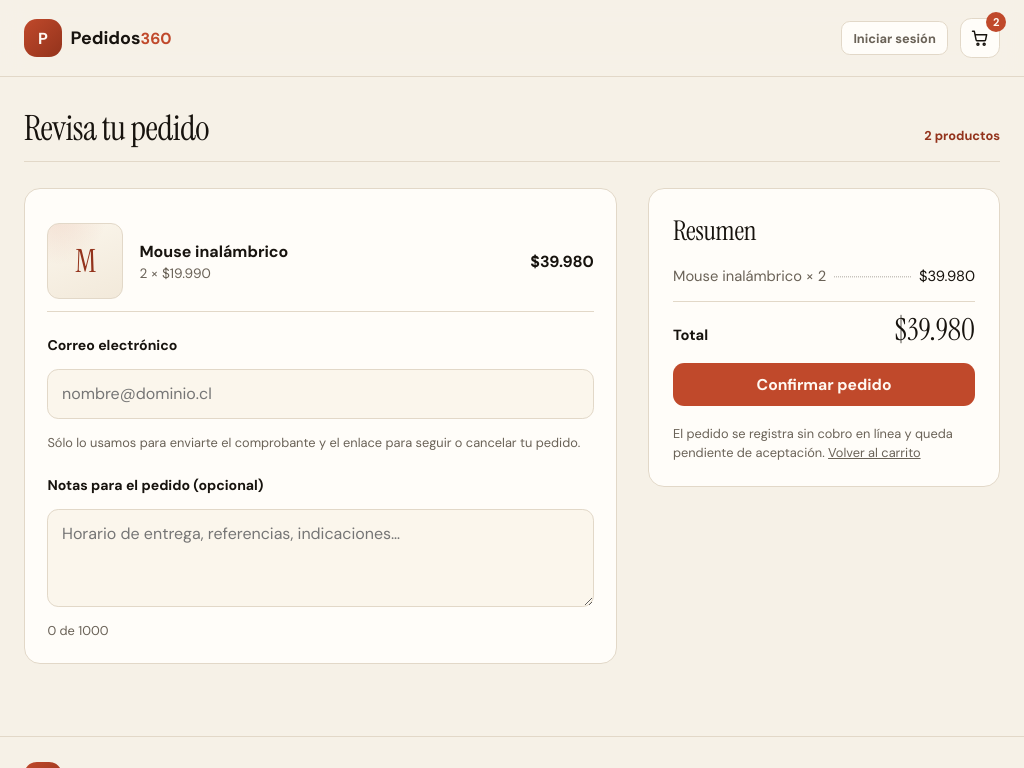
CheckoutPage › rechaza un correo sin formato válido
The width and height of the screenshot is (1024, 768).
In the field labelled "Correo electrónico": coordinates (321, 394) [47,369,594,419], type "lucia@duocuc"
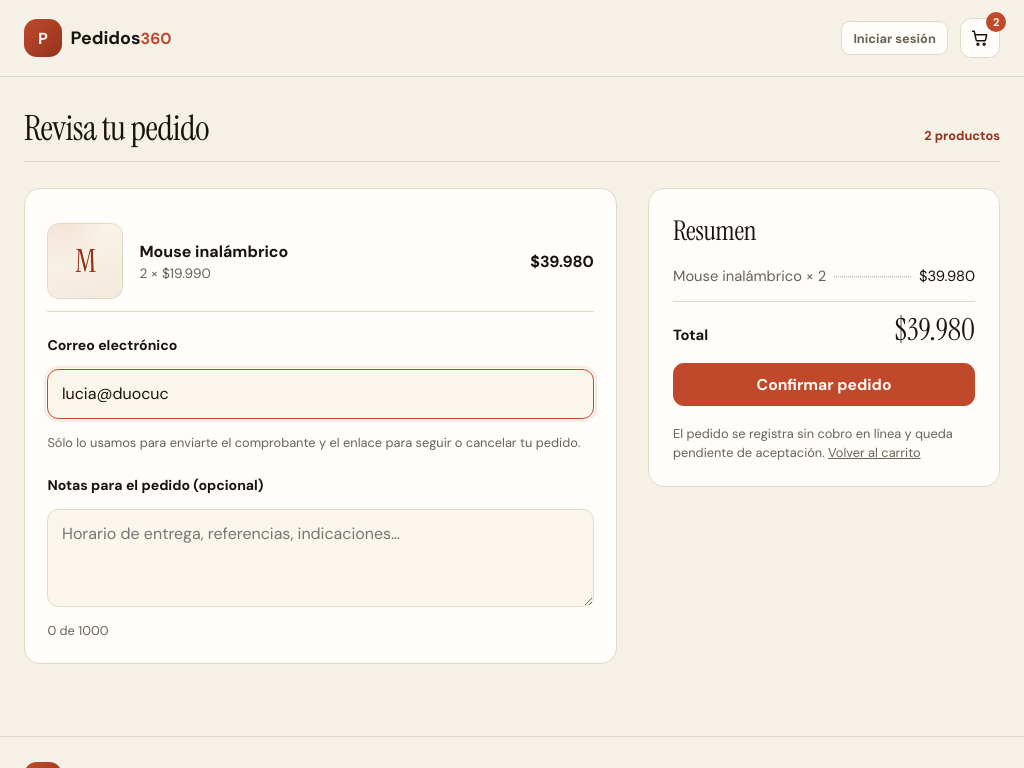
Click the button "Confirmar pedido": coordinates (824, 384) [673,363,975,406]
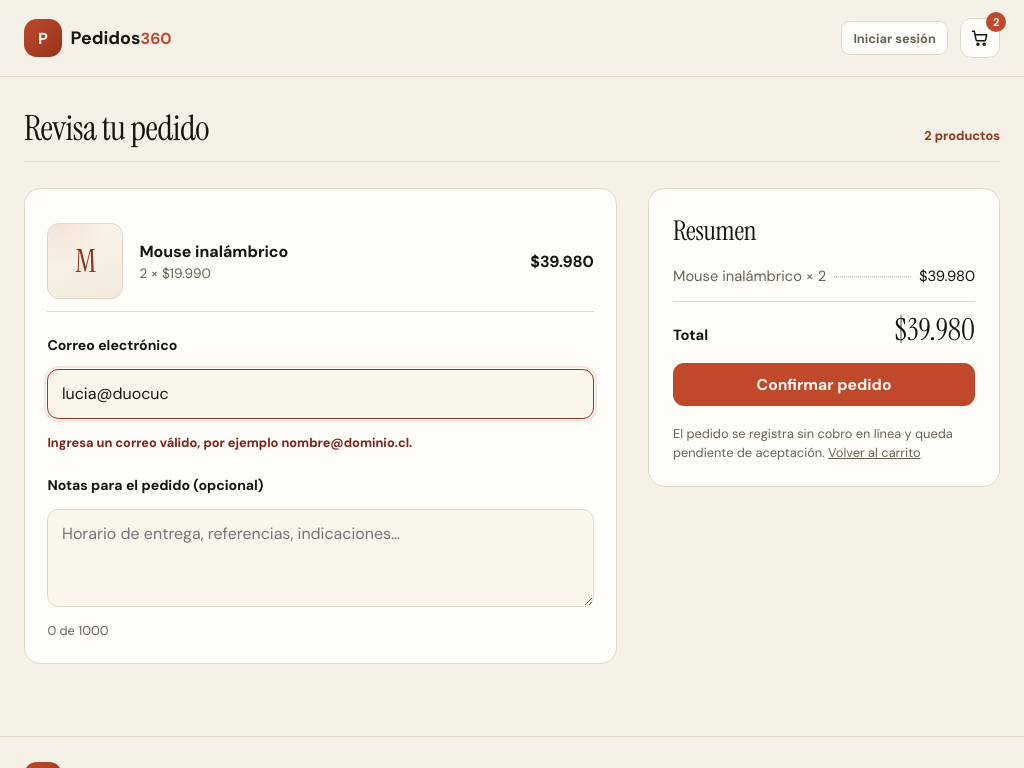
expect the text "Ingresa un correo válido, por ejemplo nombre@dominio.cl." is shown: met, box [47,434,412,451]
